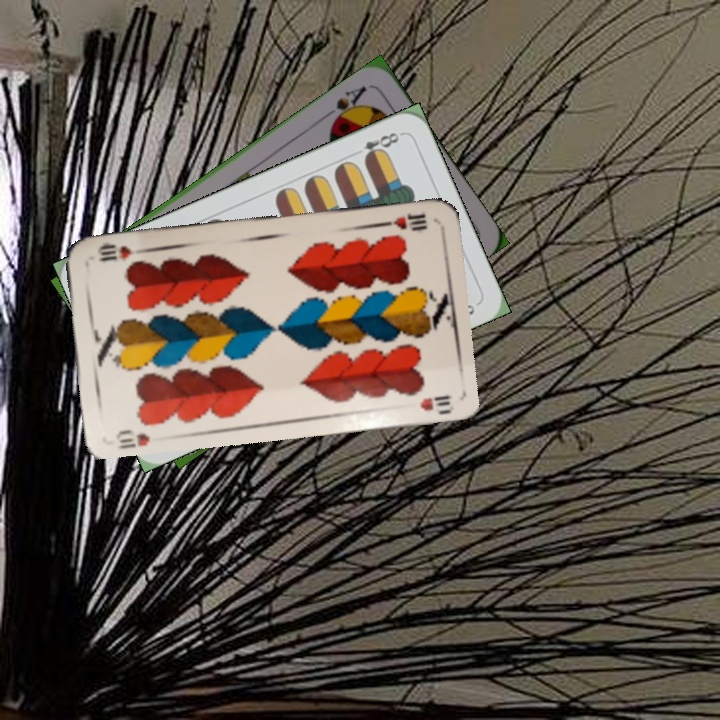E8: (359, 128, 404, 164)
H10: (376, 209, 430, 233), (112, 425, 153, 451)
SA: (319, 81, 370, 129)
